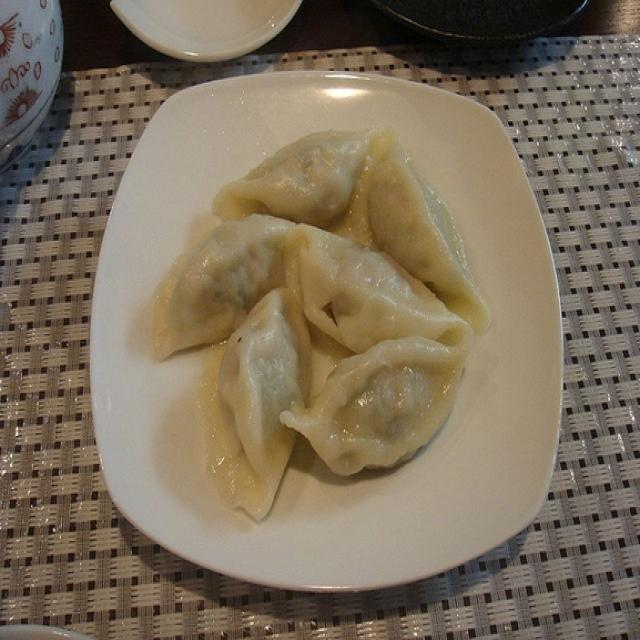带馅早点: (88, 68, 538, 557)
